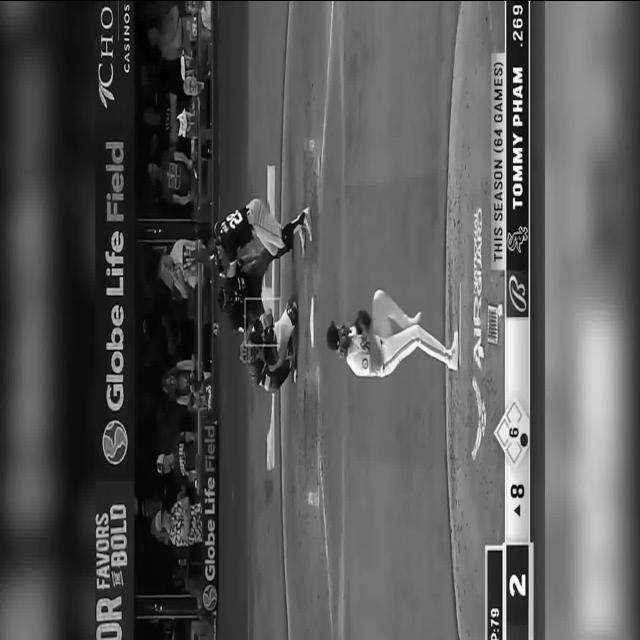baseball_glove: (261, 320, 279, 364), (355, 310, 371, 334)
shoe: (448, 330, 458, 370), (302, 206, 312, 242), (286, 299, 298, 325), (405, 311, 422, 328), (298, 224, 306, 256), (288, 359, 296, 383), (286, 335, 292, 356)
